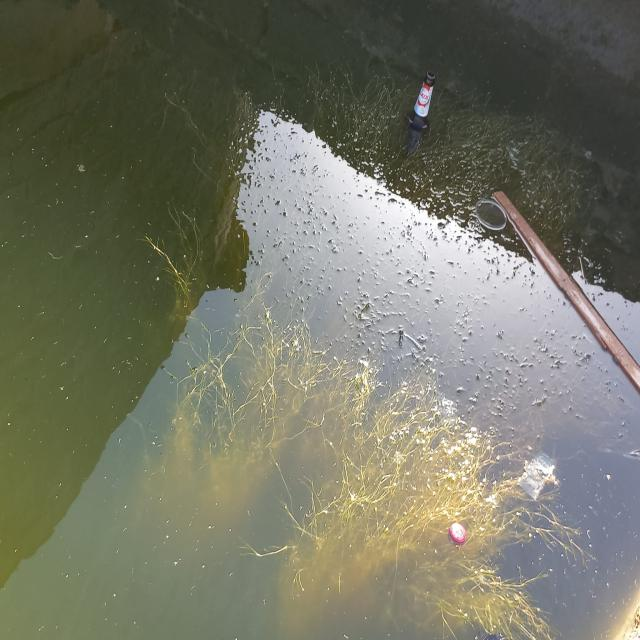Bottle: (402, 71, 436, 155)
Bottle cap: (448, 522, 466, 546)
Cup: (476, 198, 506, 229)
Other litter: (493, 191, 640, 395), (516, 453, 555, 503)
